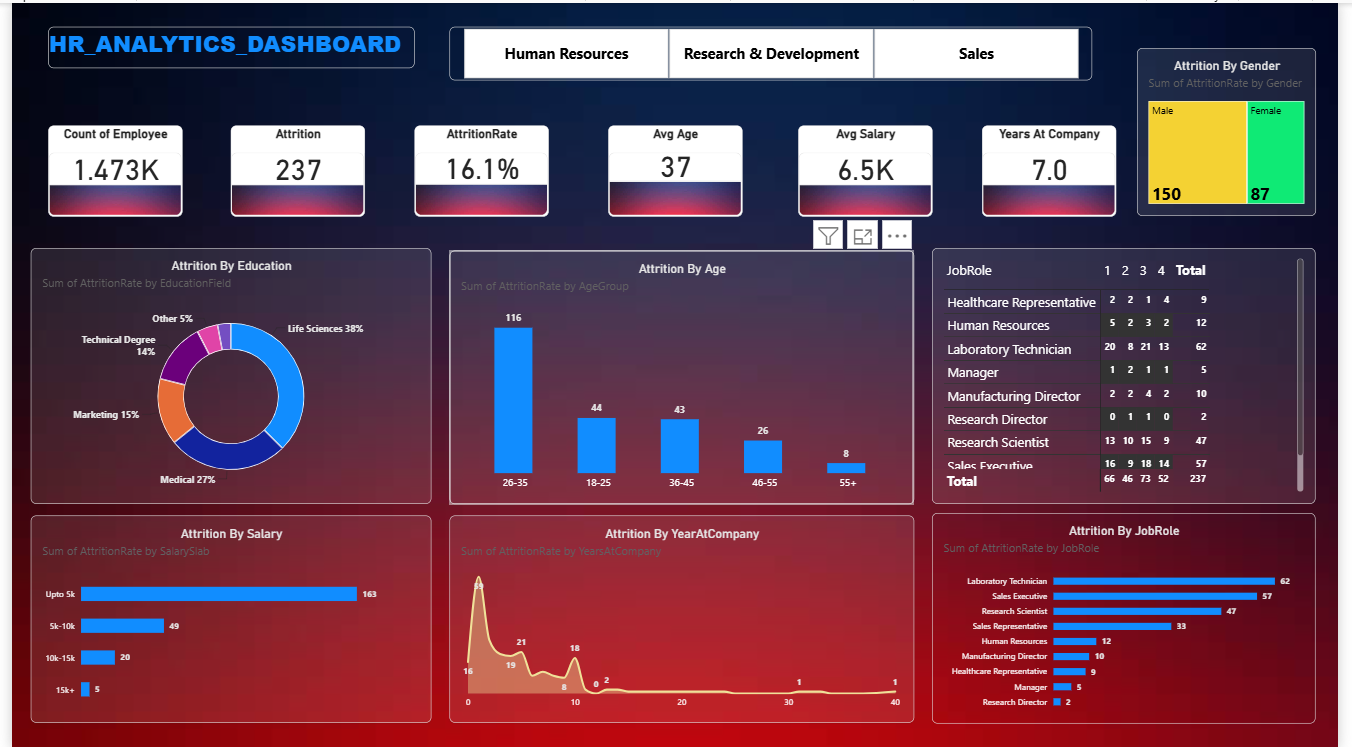

This screenshot's page, from the dashboard's own definition file:
{"tool":"powerbi","page":{"name":"Page 1","canvas":[1920,1080],"ordinal":0},"visuals":[{"type":"cardVisual","title":"Count of Employee","fields":{"Data":["CountNonNull(HR_Analytics (2).EmpID)"]},"box":[52.5,177.5,194,132],"z":0},{"type":"cardVisual","title":"Attrition","fields":{"Data":["Sum(HR_Analytics (2).AttritionRate)"]},"box":[317.5,177.5,194,132],"z":1000},{"type":"cardVisual","title":"AttritionRate","fields":{"Data":["Avg(HR_Analytics (2).AttritionRate)"]},"box":[582.5,177.5,194,132],"z":2000},{"type":"cardVisual","title":"Avg Age","fields":{"Data":["Avg(HR_Analytics (2).Age)"]},"box":[862.5,177.5,194,132],"z":3000},{"type":"cardVisual","title":"Avg Salary","fields":{"Data":["Avg(HR_Analytics (2).MonthlyIncome)"]},"box":[1137.5,177.5,194,132],"z":4000},{"type":"cardVisual","title":"Years At Company","fields":{"Data":["Avg(HR_Analytics (2).YearsAtCompany)"]},"box":[1405,177.5,194,132],"z":5000},{"type":"donutChart","title":"Attrition By Education","fields":{"Category":["HR_Analytics (2).EducationField"],"Y":["Sum(HR_Analytics (2).AttritionRate)"]},"box":[27.5,355,580,370],"z":6000},{"type":"columnChart","title":"Attrition By Age","fields":{"Category":["HR_Analytics (2).AgeGroup"],"Y":["Sum(HR_Analytics (2).AttritionRate)"]},"box":[632.5,357.5,672.5,367.5],"z":7000},{"type":"pivotTable","fields":{"Columns":["HR_Analytics (2).JobSatisfaction"],"Rows":["HR_Analytics (2).JobRole"],"Values":["Sum(HR_Analytics (2).AttritionRate)"]},"box":[1332.5,355,555,370],"z":8000},{"type":"barChart","title":"Attrition By Salary","fields":{"Category":["HR_Analytics (2).SalarySlab"],"Y":["Sum(HR_Analytics (2).AttritionRate)"]},"box":[27.5,742.5,580,300],"z":9000},{"type":"barChart","title":"Attrition By JobRole","fields":{"Category":["HR_Analytics (2).JobRole"],"Y":["Sum(HR_Analytics (2).AttritionRate)"]},"box":[1332.5,737.5,555,305],"z":10000},{"type":"areaChart","title":"Attrition By YearAtCompany","fields":{"Category":["HR_Analytics (2).YearsAtCompany"],"Y":["Sum(HR_Analytics (2).AttritionRate)"]},"box":[632.5,742.5,672.5,300],"z":11000},{"type":"slicer","fields":{"Values":["HR_Analytics (2).Department"]},"box":[632.5,35,930,77.5],"z":12000},{"type":"textbox","box":[52.5,35,530,60],"z":13000},{"type":"treemap","title":"Attrition By Gender","fields":{"Group":["HR_Analytics (2).Gender"],"Values":["Sum(HR_Analytics (2).AttritionRate)"]},"box":[1628.1,65.9,259.3,242.9],"z":14000}]}

Visuals, with their boxes in screenshot pixels (x1, y1, x2, y2), scaled from the page's 1920x1080 canvas onto the 1352x747 screenshot:
"Count of Employee" cardVisual: (x1=37, y1=123, x2=174, y2=214)
"Attrition" cardVisual: (x1=224, y1=123, x2=360, y2=214)
"AttritionRate" cardVisual: (x1=410, y1=123, x2=547, y2=214)
"Avg Age" cardVisual: (x1=607, y1=123, x2=744, y2=214)
"Avg Salary" cardVisual: (x1=801, y1=123, x2=938, y2=214)
"Years At Company" cardVisual: (x1=989, y1=123, x2=1126, y2=214)
"Attrition By Education" donutChart: (x1=19, y1=246, x2=428, y2=501)
"Attrition By Age" columnChart: (x1=445, y1=247, x2=919, y2=501)
pivotTable - HR_Analytics (2).JobSatisfaction x HR_Analytics (2).JobRole: (x1=938, y1=246, x2=1329, y2=501)
"Attrition By Salary" barChart: (x1=19, y1=514, x2=428, y2=721)
"Attrition By JobRole" barChart: (x1=938, y1=510, x2=1329, y2=721)
"Attrition By YearAtCompany" areaChart: (x1=445, y1=514, x2=919, y2=721)
slicer - HR_Analytics (2).Department: (x1=445, y1=24, x2=1100, y2=78)
textbox: (x1=37, y1=24, x2=410, y2=66)
"Attrition By Gender" treemap: (x1=1146, y1=46, x2=1329, y2=214)
